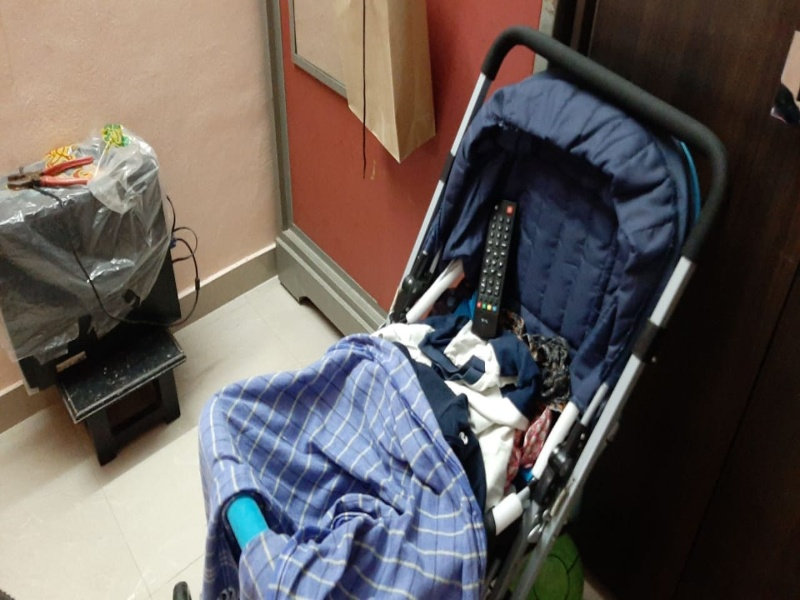remote: (472, 186, 536, 340)
